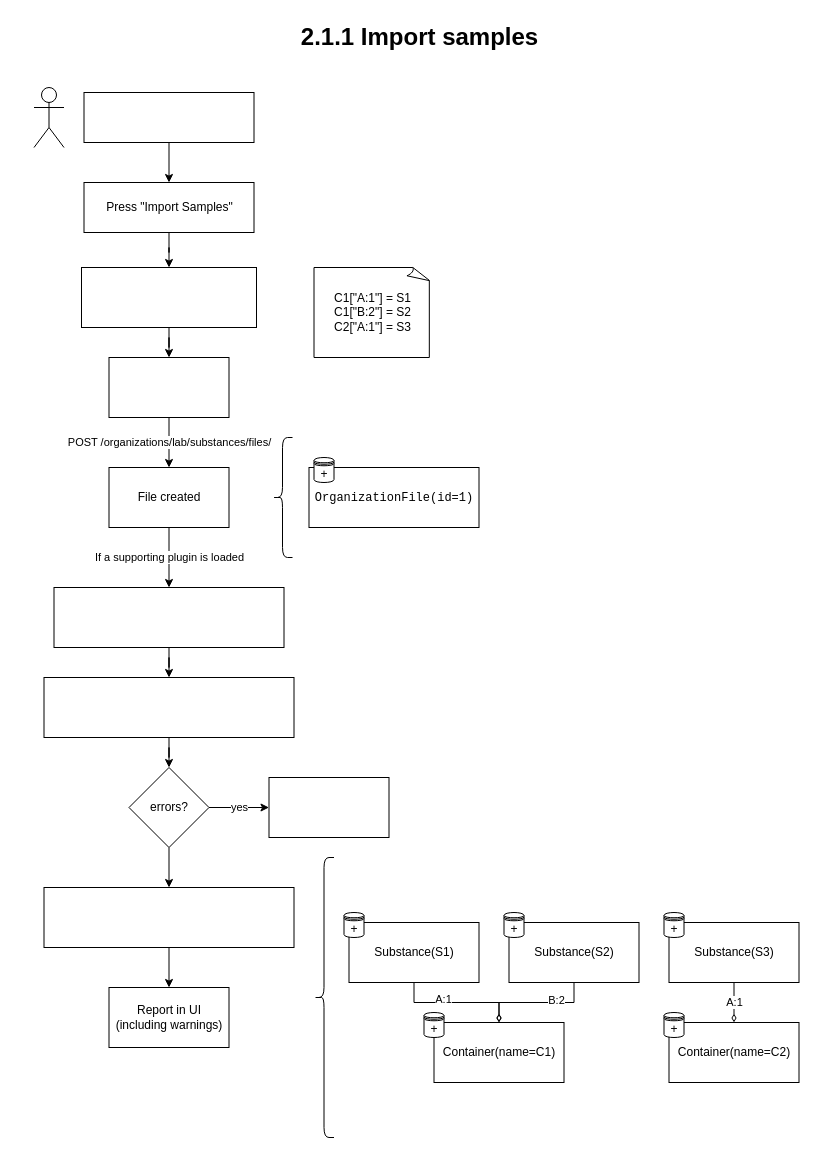
The diagram is 816 pixels wide and 1155 high, and some of its shapes have lost their labels. Each missing label, with the centre of its shape:
Coordinator: [48,117]
Execute SubstancesSubmissionHandler: [168,917]
Execute SubstancesValidationHandler: [168,617]
Press "Samples" in the sidebar: [168,117]
Presses Upload: [168,387]
Report in UI: [328,807]
Selects any local file: [168,297]
Validation of the file occurs, plugin based: [168,707]
